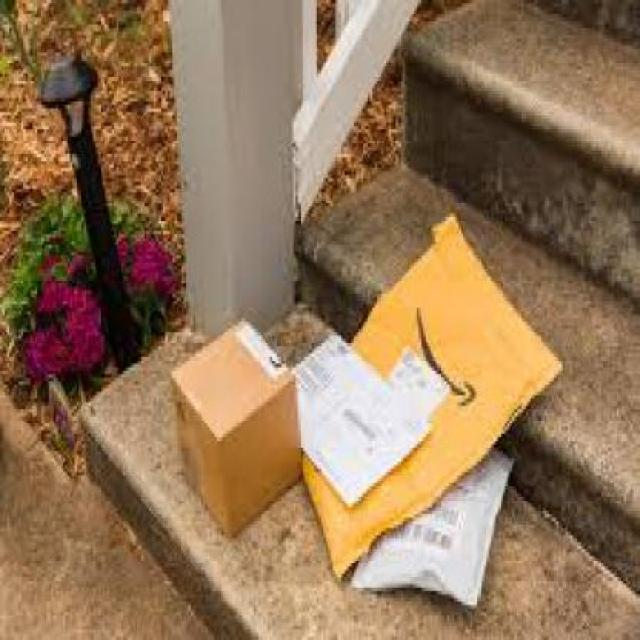cardboxes: (171, 314, 309, 549)
